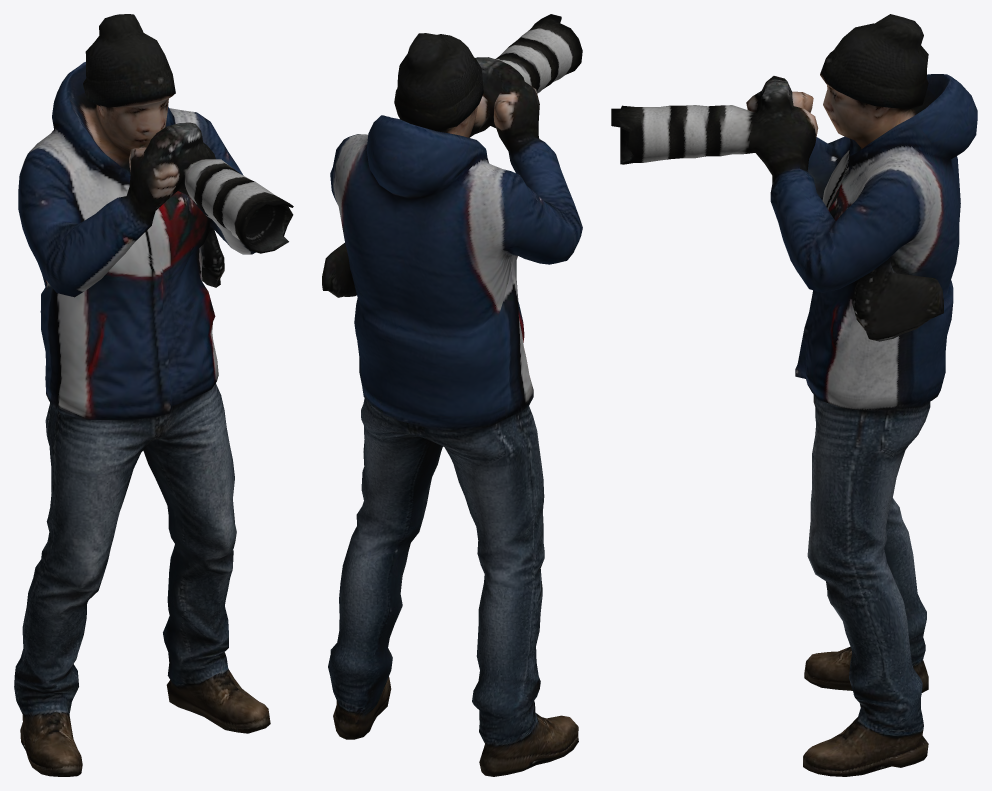
The model's file is photographer.glb.
3 views of the same model, side by side, from view 1: azimuth 30°, elevation 25°; view 2: azimuth 150°, elevation 25°; view 3: azimuth 270°, elevation 25° (orthographic).
Visible parts, largest first — view 1: tripo_node_34c33ce2-eac4-4237-819f-1016a3b4d88d; view 2: tripo_node_34c33ce2-eac4-4237-819f-1016a3b4d88d; view 3: tripo_node_34c33ce2-eac4-4237-819f-1016a3b4d88d.
Boxes of the visible parts, <box> form: tripo_node_34c33ce2-eac4-4237-819f-1016a3b4d88d: <box>14,14,293,776</box>; tripo_node_34c33ce2-eac4-4237-819f-1016a3b4d88d: <box>322,14,582,776</box>; tripo_node_34c33ce2-eac4-4237-819f-1016a3b4d88d: <box>611,14,977,776</box>.
Bounding box in the file's own units: 0.3301 × 0.998 × 0.4668.
Materials: 1 (1 with a texture image).
